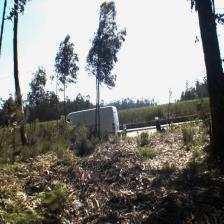trunktrack_idkeyframe: (198, 16, 223, 139), (12, 23, 29, 148)
